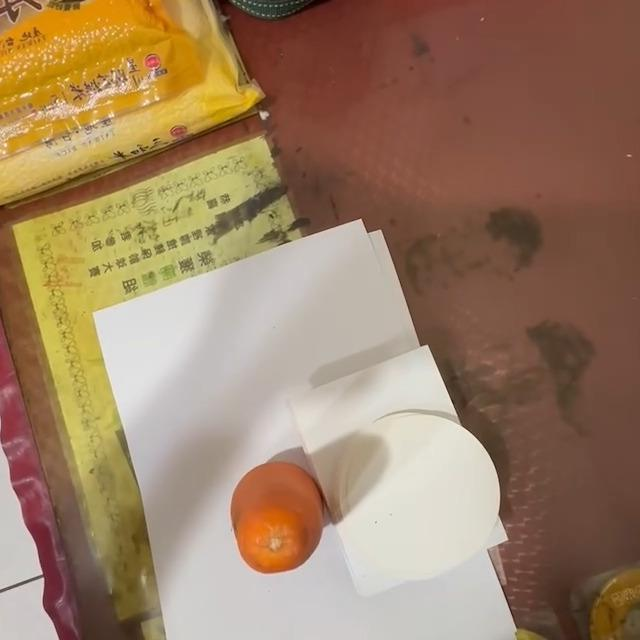carrot: (226, 460, 332, 577)
